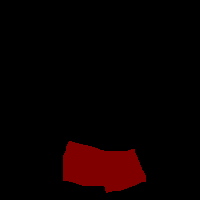mutande: (63, 140, 146, 193)
